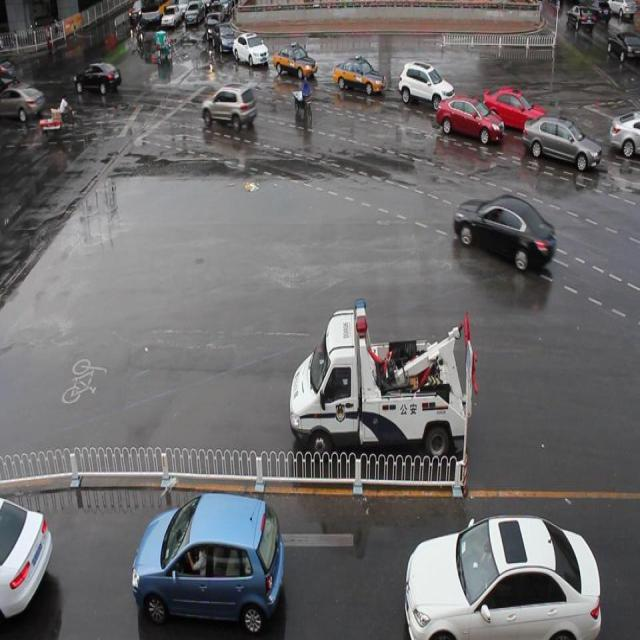bus: (289, 296, 477, 464)
car: (405, 516, 598, 640), (134, 489, 283, 632), (452, 192, 553, 274), (1, 494, 54, 630), (523, 113, 600, 173), (436, 92, 503, 146), (482, 82, 546, 134), (398, 59, 453, 110), (201, 84, 257, 131), (334, 54, 384, 98), (273, 40, 317, 82), (608, 108, 640, 158), (233, 29, 269, 71), (213, 20, 238, 58)
